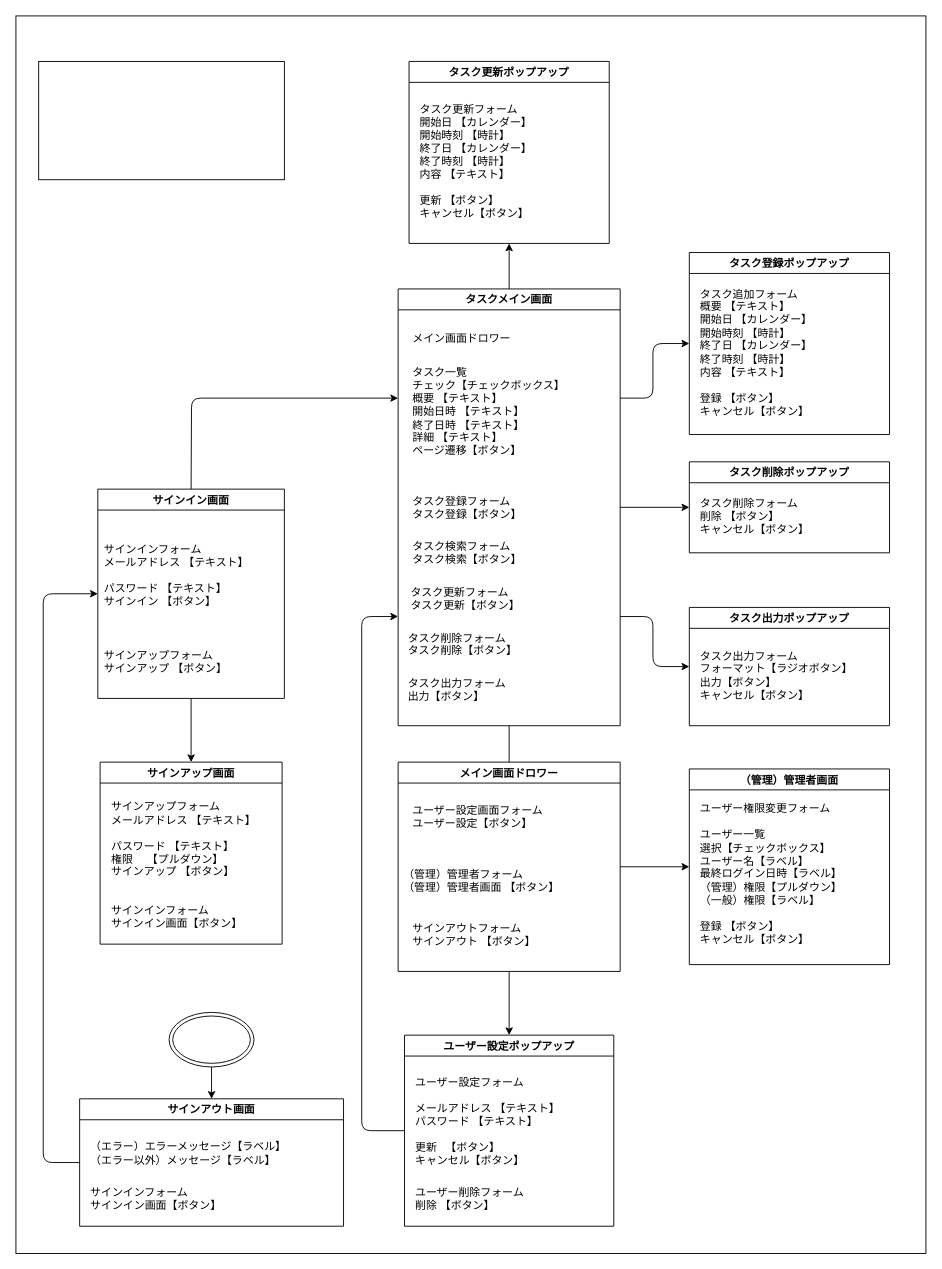
Image size: 942x1269. Some labels were removed from this diagram. The shapes that lost their labels are listed below. From the top down, each one's centre as x and y in pixels, then its label:
At (161,120): "権限等 （管理）管理者権限のみ （一般）一般ユーザーのみ （エラー時）エラー時".
At (211,1039): "エラー時".
